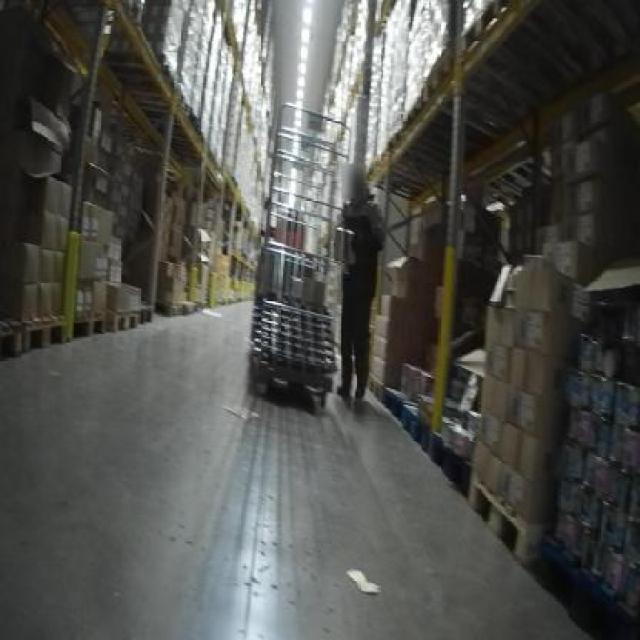pallet: (461, 469, 568, 579), (18, 301, 74, 358), (69, 306, 108, 347), (116, 307, 140, 339)
